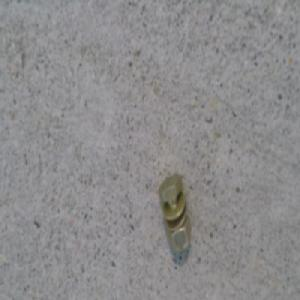BoltNutSet: (161, 169, 194, 250)
